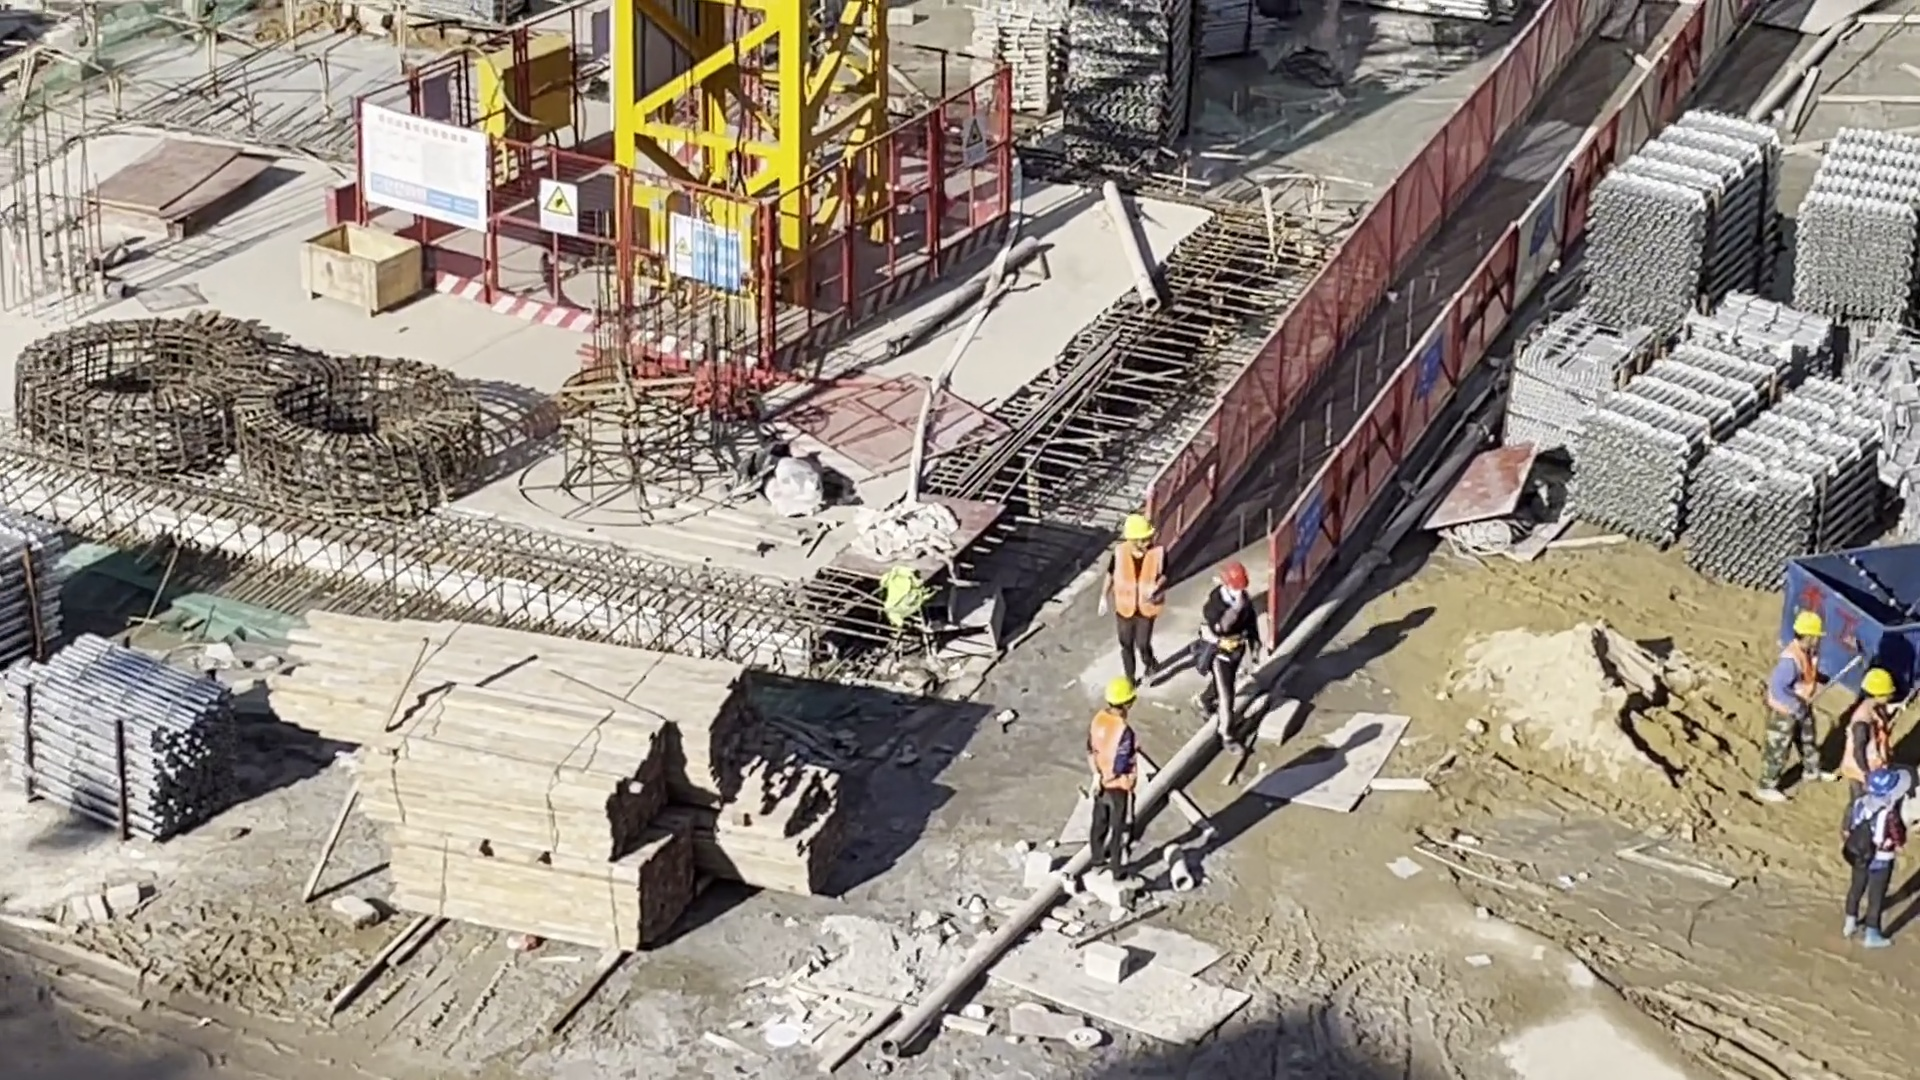board: (90, 147, 269, 241)
ebox: (470, 39, 578, 142)
fence: (1151, 3, 1713, 587)
helmet: (1860, 671, 1896, 696), (1105, 676, 1134, 707), (1792, 614, 1826, 639), (1125, 513, 1155, 541), (1221, 563, 1250, 588), (1867, 769, 1898, 793)
hopper: (1789, 531, 1920, 693)
person: (1085, 677, 1140, 879), (1201, 568, 1261, 753), (1106, 514, 1169, 689), (1846, 773, 1906, 946), (1771, 615, 1828, 791), (1846, 670, 1896, 838)
scaffold: (1, 639, 238, 831), (1581, 322, 1783, 541), (1690, 380, 1893, 580), (1589, 115, 1775, 326), (989, 1, 1193, 149), (1797, 127, 1920, 330), (1, 535, 69, 660)
slogan: (671, 216, 740, 295), (1412, 327, 1443, 397), (540, 180, 578, 231), (1296, 492, 1321, 564), (963, 118, 988, 166)
vest: (1089, 706, 1135, 792), (1112, 551, 1161, 626), (1840, 710, 1889, 781), (1781, 645, 1827, 715), (1850, 803, 1890, 857)
wood: (312, 622, 747, 803), (392, 706, 697, 945)
